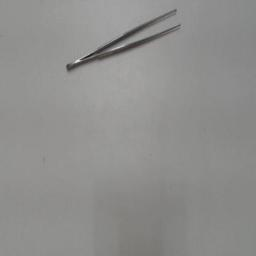Gillies Toothed Dissector: (60, 2, 190, 76)
